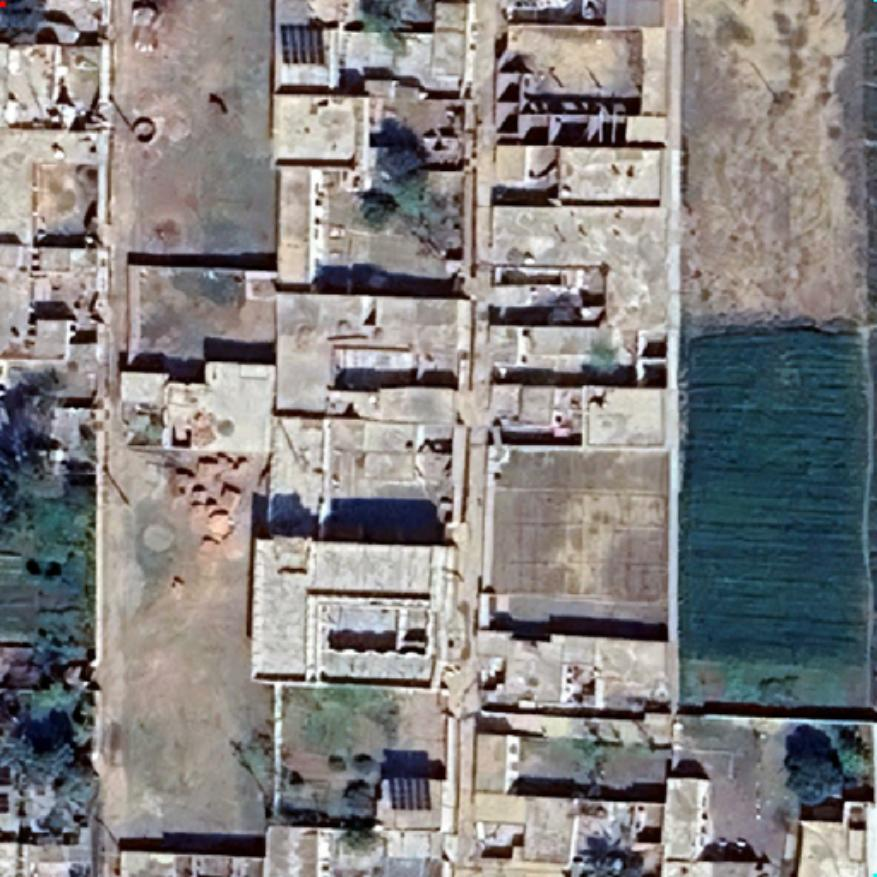Solarpanel: (276, 19, 332, 70), (382, 771, 436, 815)
